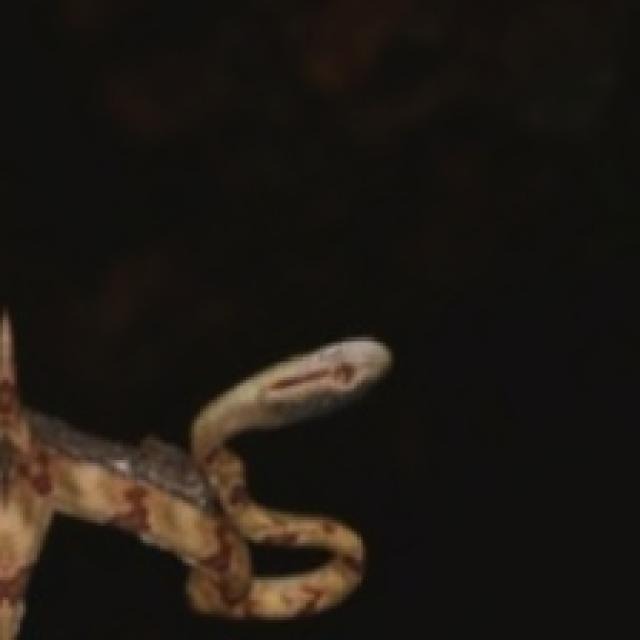dog-toothed cat snake: (0, 311, 389, 637)
